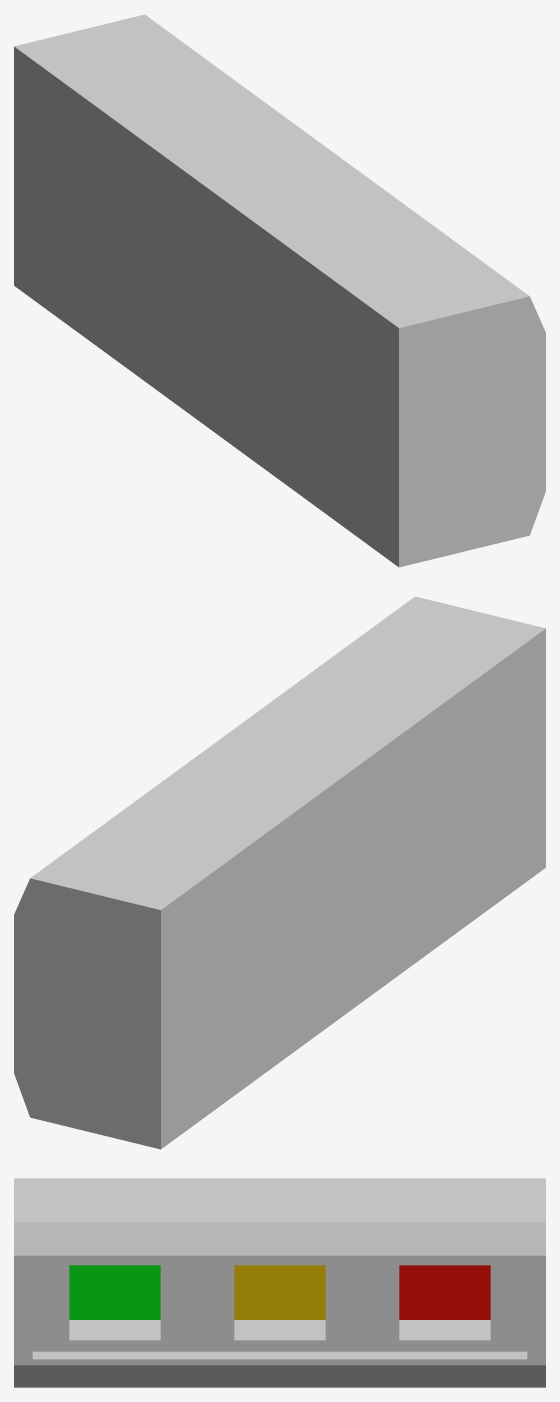
File: SoundMeter 1.fbx
3 renders of one model, top to bottom at view 1: azimuth 30°, elevation 25°; view 2: azimuth 150°, elevation 25°; view 3: azimuth 270°, elevation 25°, orthographic. The views are drawn at different scales.
Visible parts, largest first — view 1: Cube; view 2: Cube; view 3: Cube.
Boxes of the visible parts, bbox=[...] form: Cube: bbox=[14, 14, 545, 567]; Cube: bbox=[14, 596, 545, 1149]; Cube: bbox=[14, 1178, 545, 1387].
Size of the model in its own units: 3.08 by 4.8 by 14.
